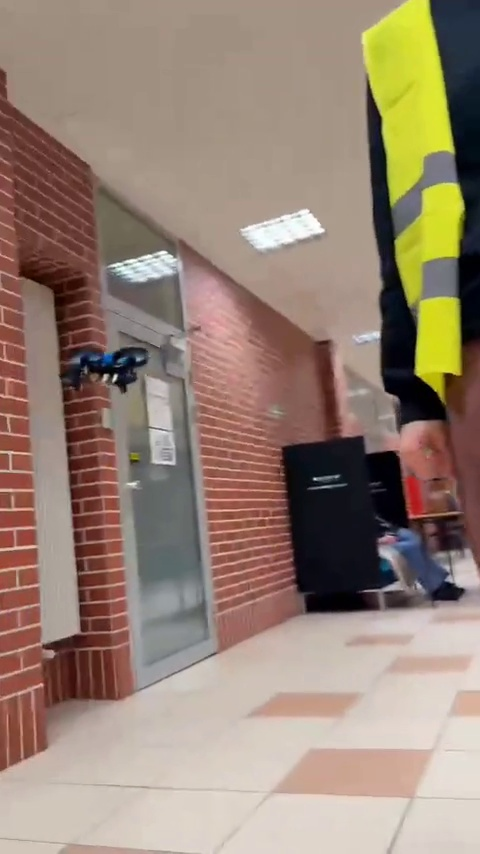drone: (63, 351, 146, 384)
